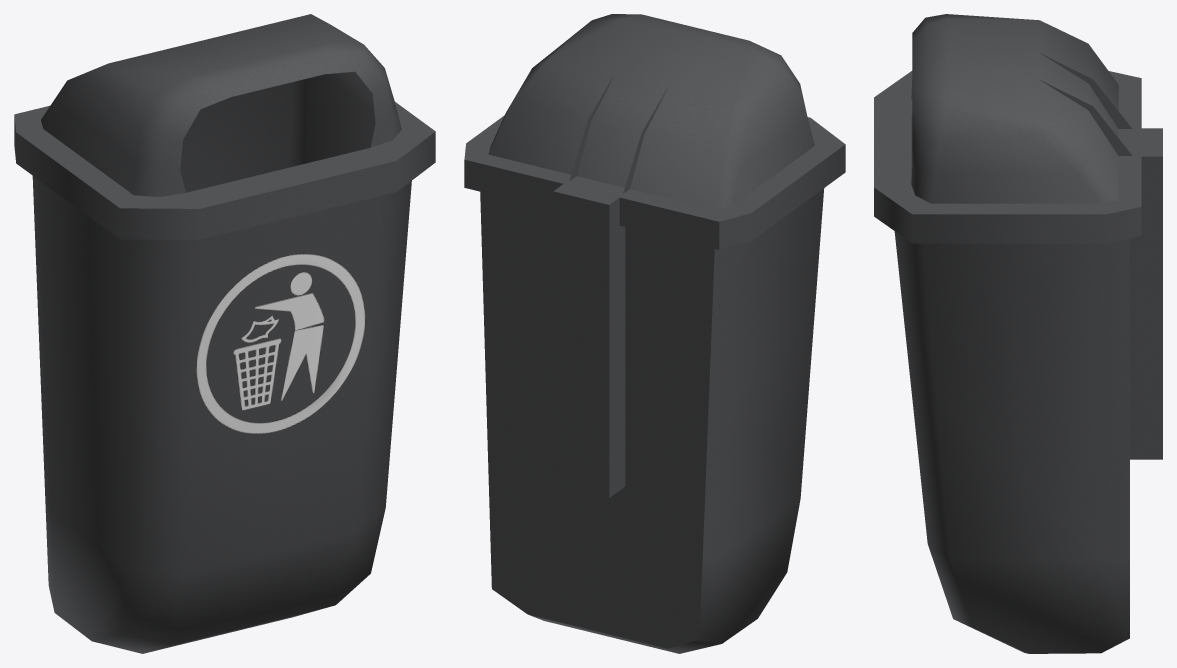
File: newWasteBin.fbx
3 renders of one model, left to right at view 1: azimuth 30°, elevation 25°; view 2: azimuth 150°, elevation 25°; view 3: azimuth 270°, elevation 25°, orthographic. The views are drawn at different scales.
Visible parts, largest first — view 1: WASTEBIN_TYPE23_L9_001; view 2: WASTEBIN_TYPE23_L9_001; view 3: WASTEBIN_TYPE23_L9_001.
Part boxes in pixels (x1,y1,x2,y2): WASTEBIN_TYPE23_L9_001: (14, 14, 435, 653); WASTEBIN_TYPE23_L9_001: (464, 14, 845, 653); WASTEBIN_TYPE23_L9_001: (874, 14, 1162, 653).
Bounding box in the file's own units: 43.39 × 79.65 × 36.8.
